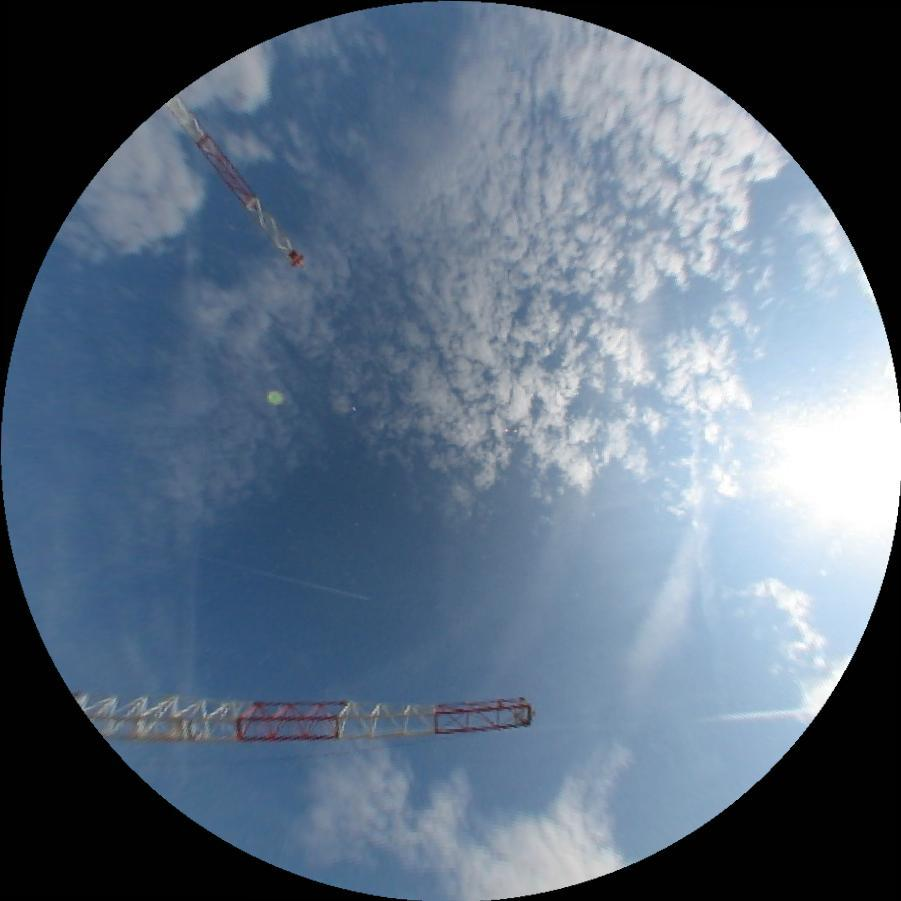contrail old: (542, 707, 802, 732)
contrail young: (136, 535, 369, 603)
